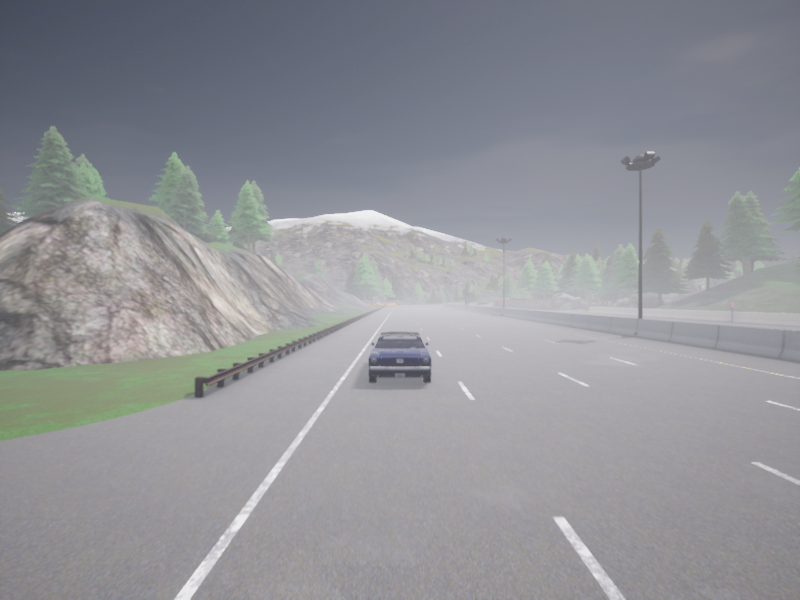vehicle: (368, 332, 431, 382), (481, 302, 486, 304), (484, 301, 488, 303), (466, 302, 469, 304), (478, 302, 481, 304), (495, 300, 496, 302)
